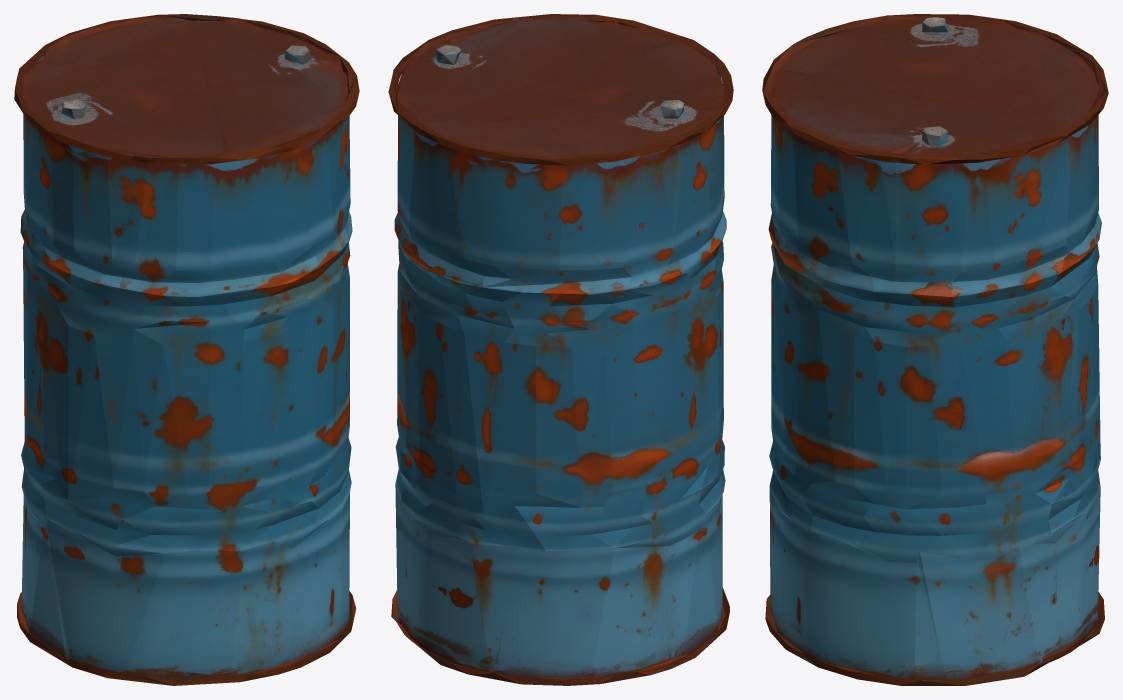
Rendered from oil_barrel.glb.
The picture shows the model from 3 angles, left to right: view 1: azimuth 30°, elevation 25°; view 2: azimuth 150°, elevation 25°; view 3: azimuth 270°, elevation 25°; orthographic projection.
Bounding box in the file's own units: 1.1 × 1.9 × 1.1.
1 material, 1 textured.
